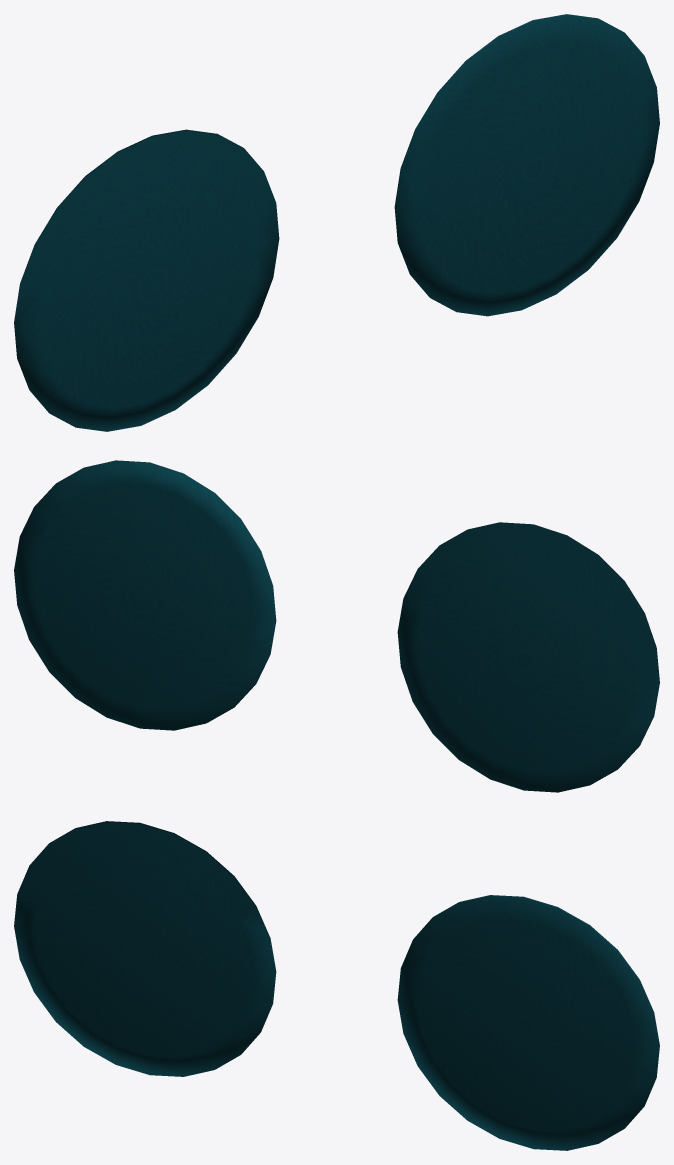
Rendered from MM__BadeDyNat_SolbrGlas_21.glb.
3 views of the same model, one above another, from view 1: azimuth 30°, elevation 25°; view 2: azimuth 150°, elevation 25°; view 3: azimuth 330°, elevation 25° (orthographic). The views are drawn at different scales.
Visible parts, largest first — view 1: Glas; view 2: Glas; view 3: Glas.
Boxes of the visible parts, bbox=[...] form: Glas: bbox=[14, 14, 659, 431]; Glas: bbox=[14, 460, 659, 792]; Glas: bbox=[14, 821, 659, 1150].
Bounding box in the file's own units: 0.2756 × 0.1158 × 0.0359.
Materials: 1 (1 with a texture image).
